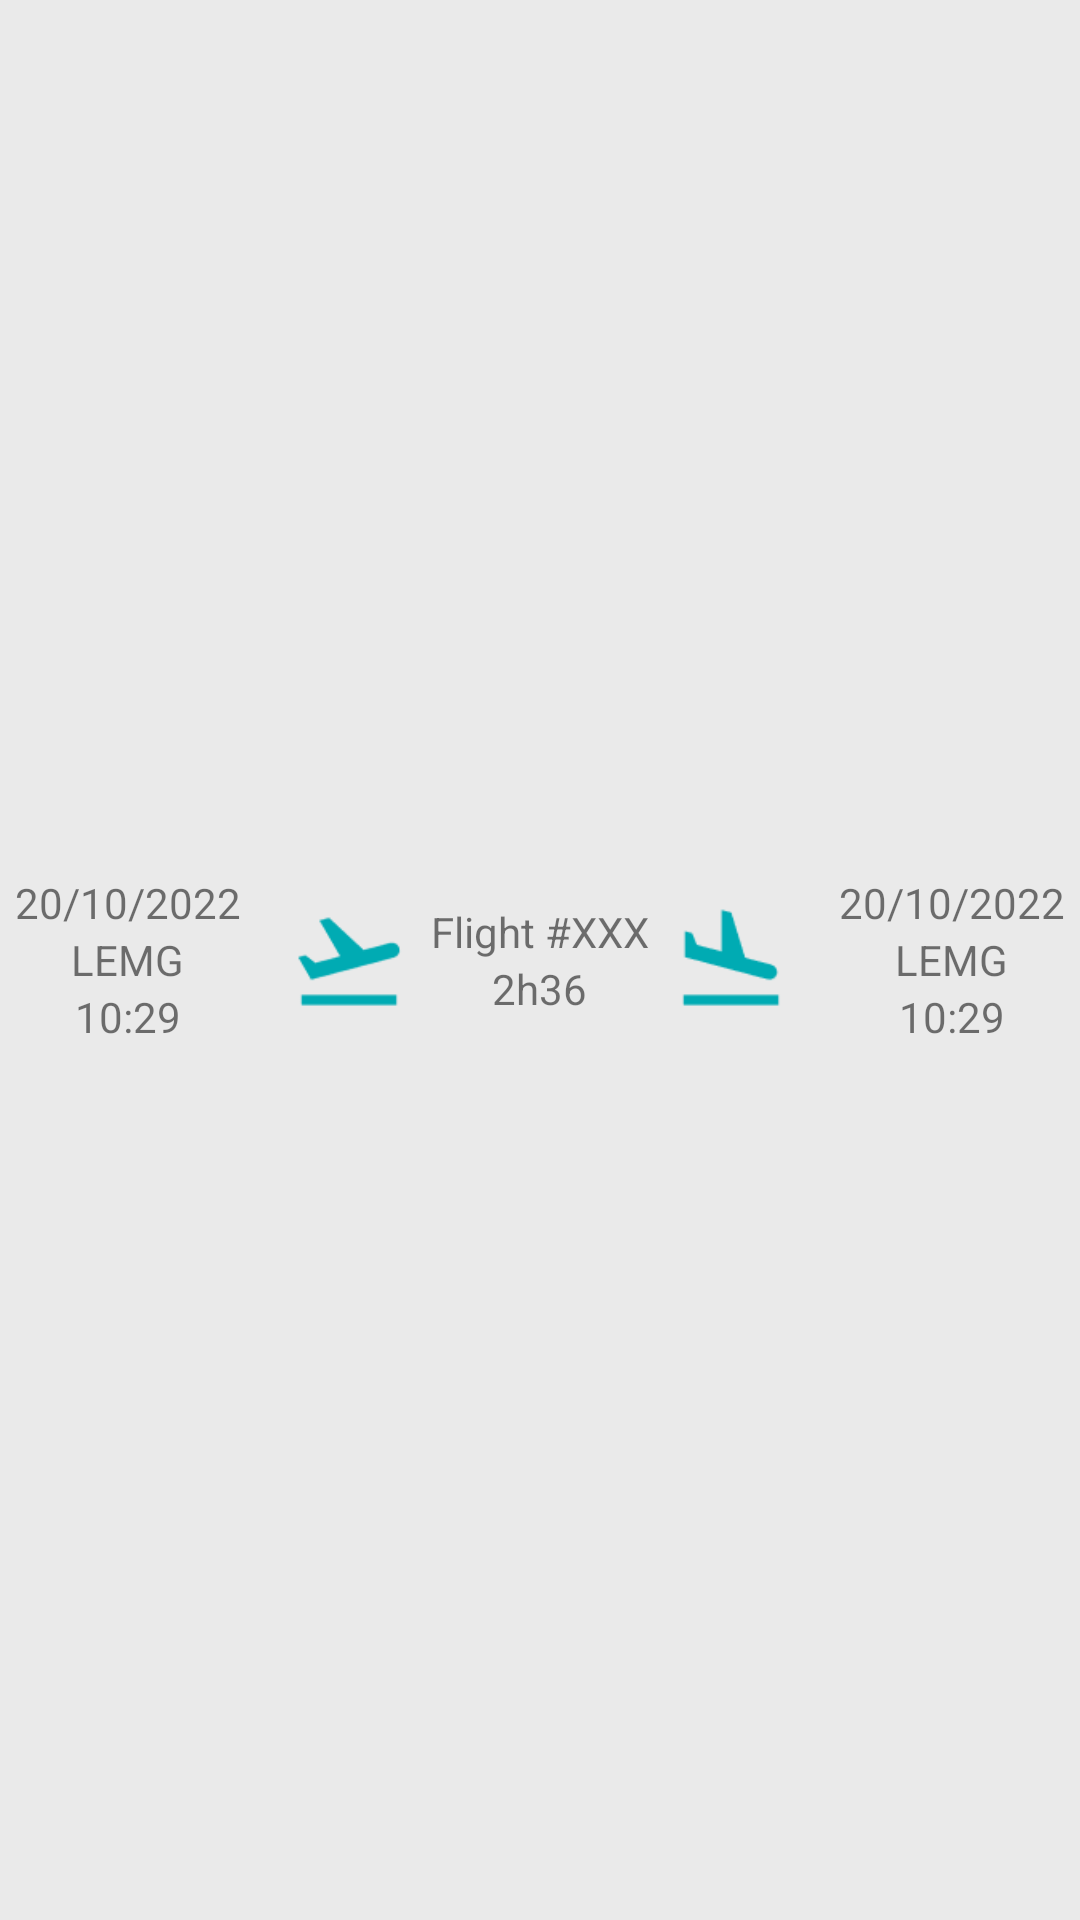

Named icons in this screenshot (1080*1920) and their bounding boxes, [x1, y1, x2, y2]:
landing: [682, 909, 780, 1006]
takeoff: [298, 917, 400, 1006]
